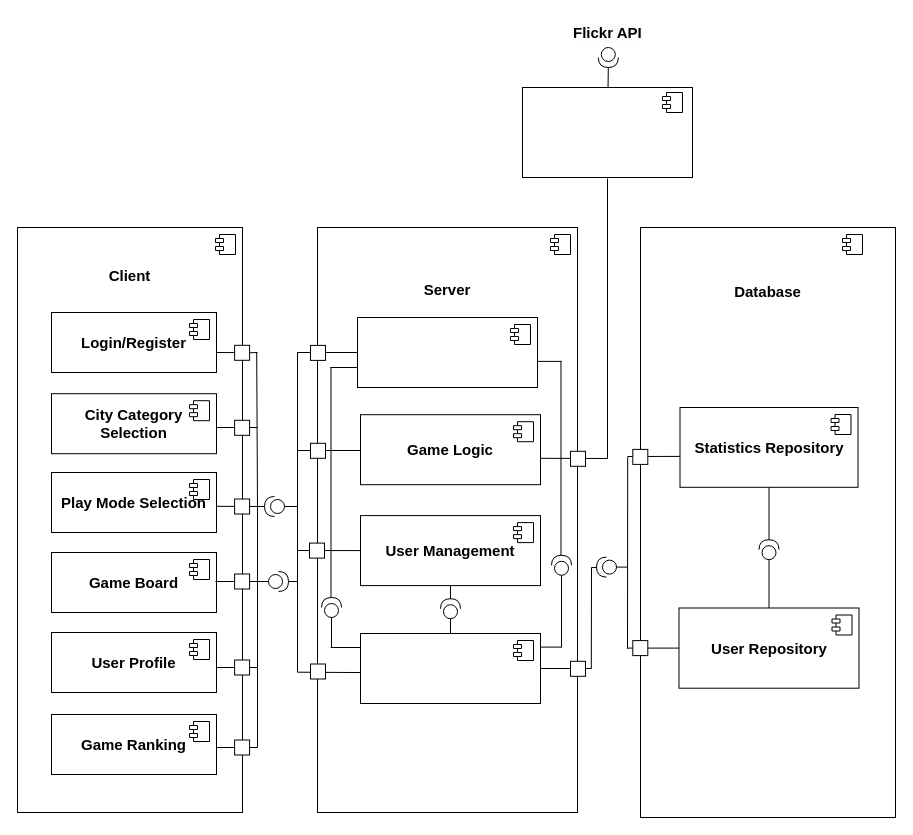
Image size: 913x835. Some labels were removed from this diagram. The centre of each missing label's shape, as x and y in pixels:
"Authentication" goes at (447,352).
"Database Connector" goes at (450,668).
"Flickr API Module" goes at (607,132).
